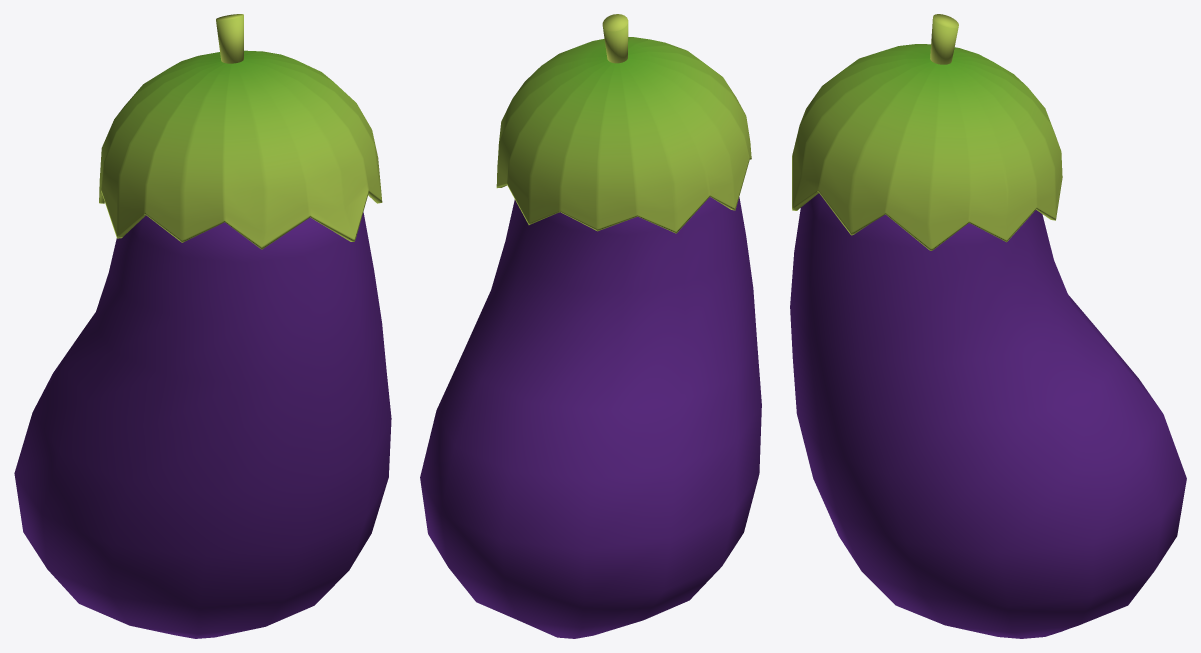
Rendered from Eggplant.fbx.
3 views of the same model, side by side, from view 1: azimuth 30°, elevation 25°; view 2: azimuth 150°, elevation 25°; view 3: azimuth 270°, elevation 25° (orthographic). The views are drawn at different scales.
Visible parts, largest first — view 1: aubergine; view 2: aubergine; view 3: aubergine.
Part boxes in pixels (x1,y1,x2,y2): aubergine: (14, 14, 391, 638); aubergine: (420, 14, 761, 638); aubergine: (790, 14, 1186, 638).
Bounding box in the file's own units: 139 × 157 × 266.
